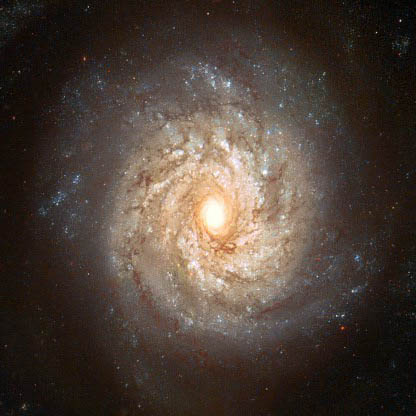NGC 3982: (55, 41, 357, 383)
